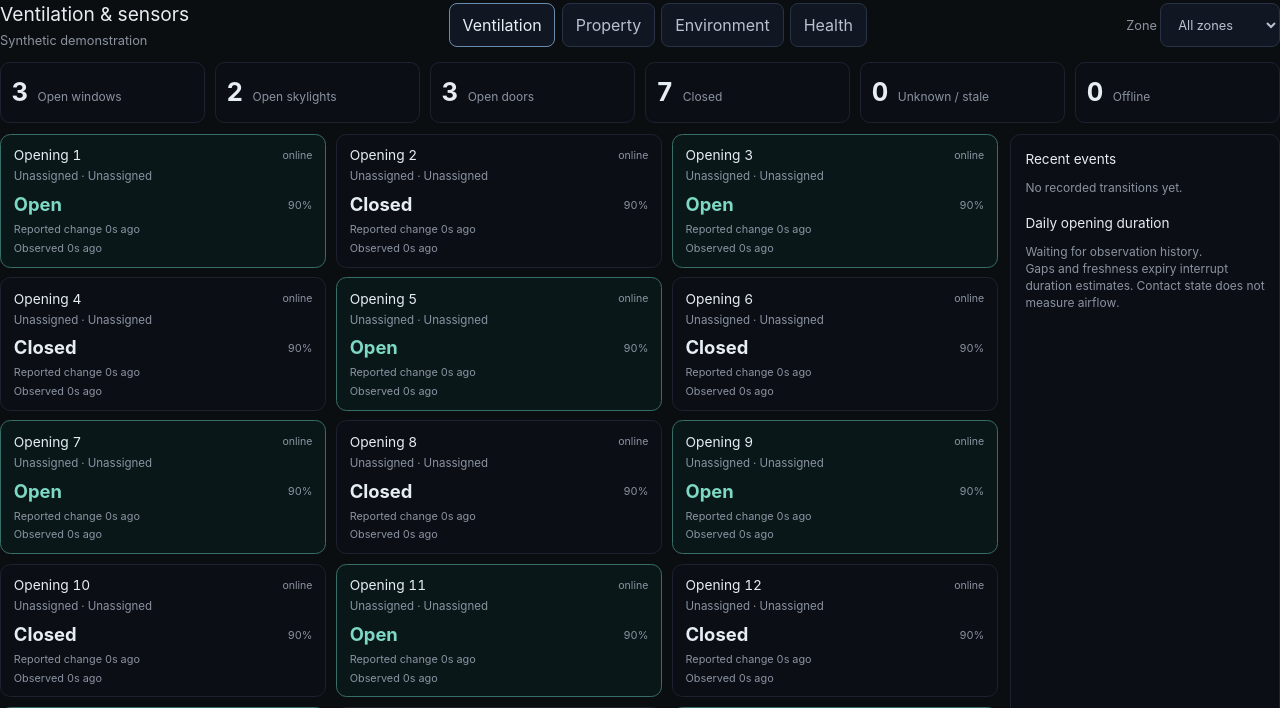
opens device diagnostics without issuing a control request
Step 1. Click the button named "Details for Opening 1" → coordinates (163, 201), box x1=1 y1=135 x2=325 y2=267
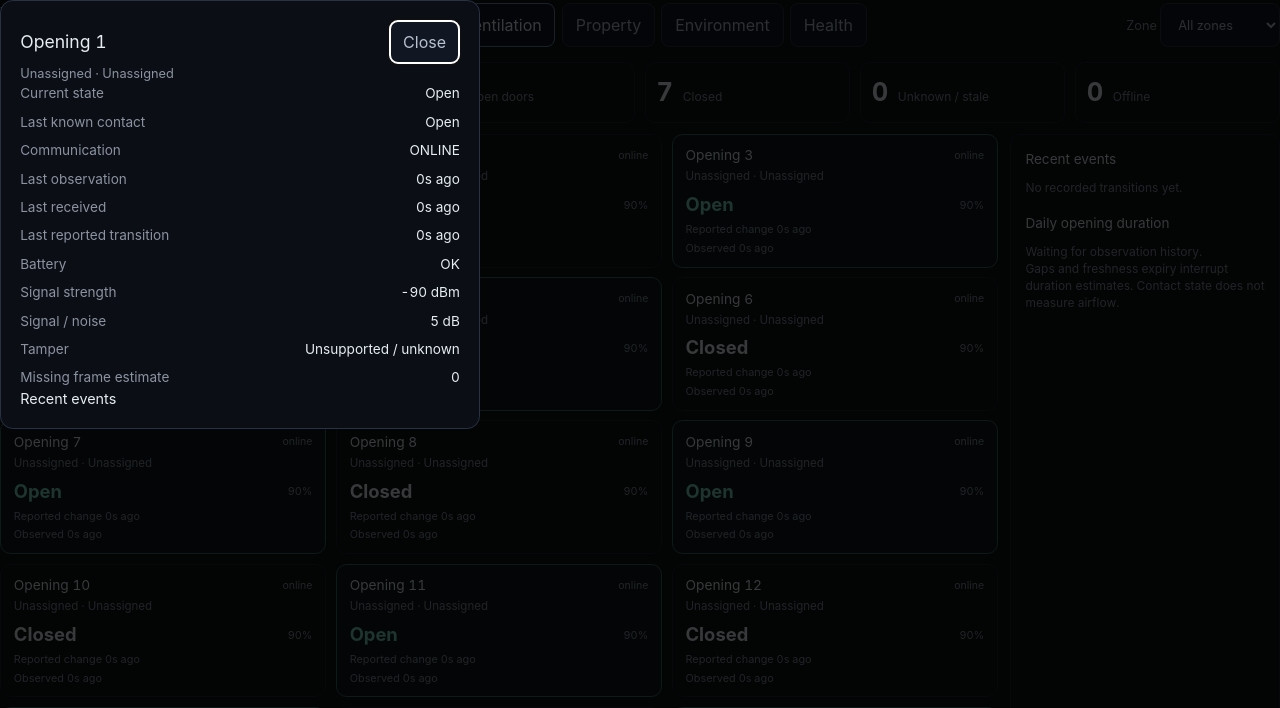
Check: the dialog named "Details for Opening 1" is shown, box x1=0 y1=0 x2=480 y2=430
Check: the text "-90 dBm" is shown, box x1=401 y1=284 x2=460 y2=300
Step 2. Click the button "Close" → coordinates (425, 42), box x1=389 y1=20 x2=460 y2=64
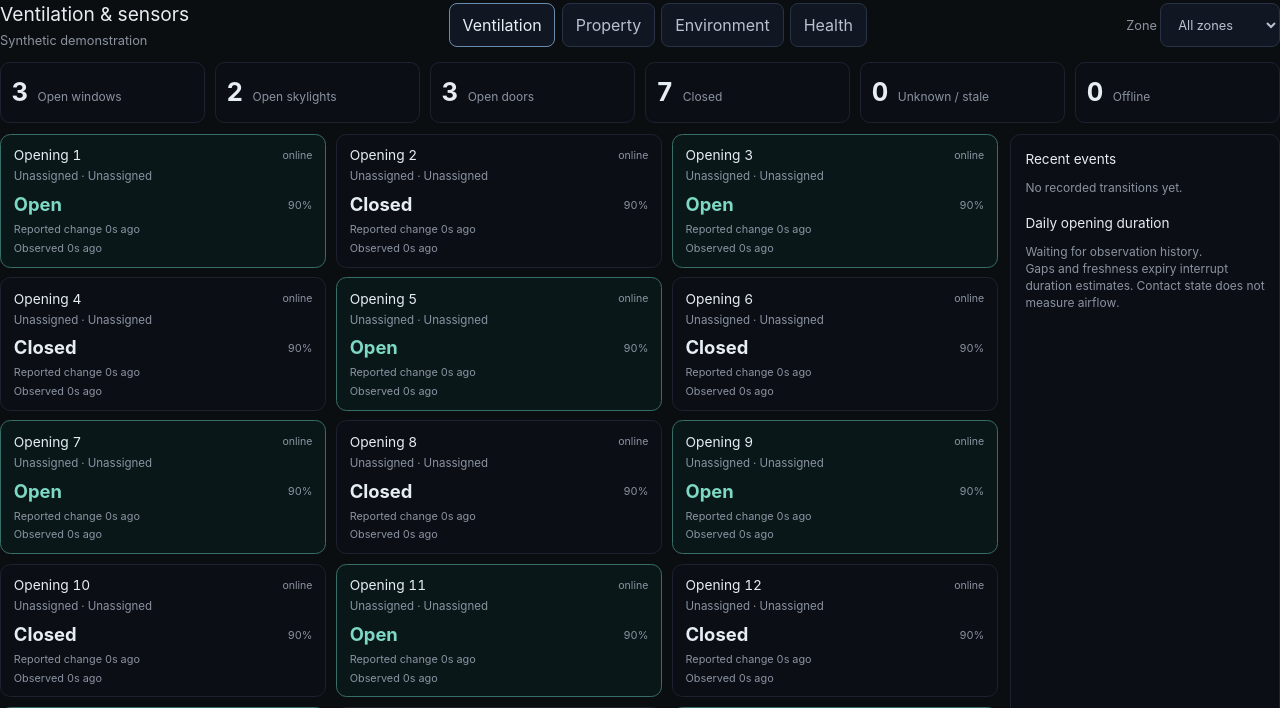
Check: the dialog is gone
